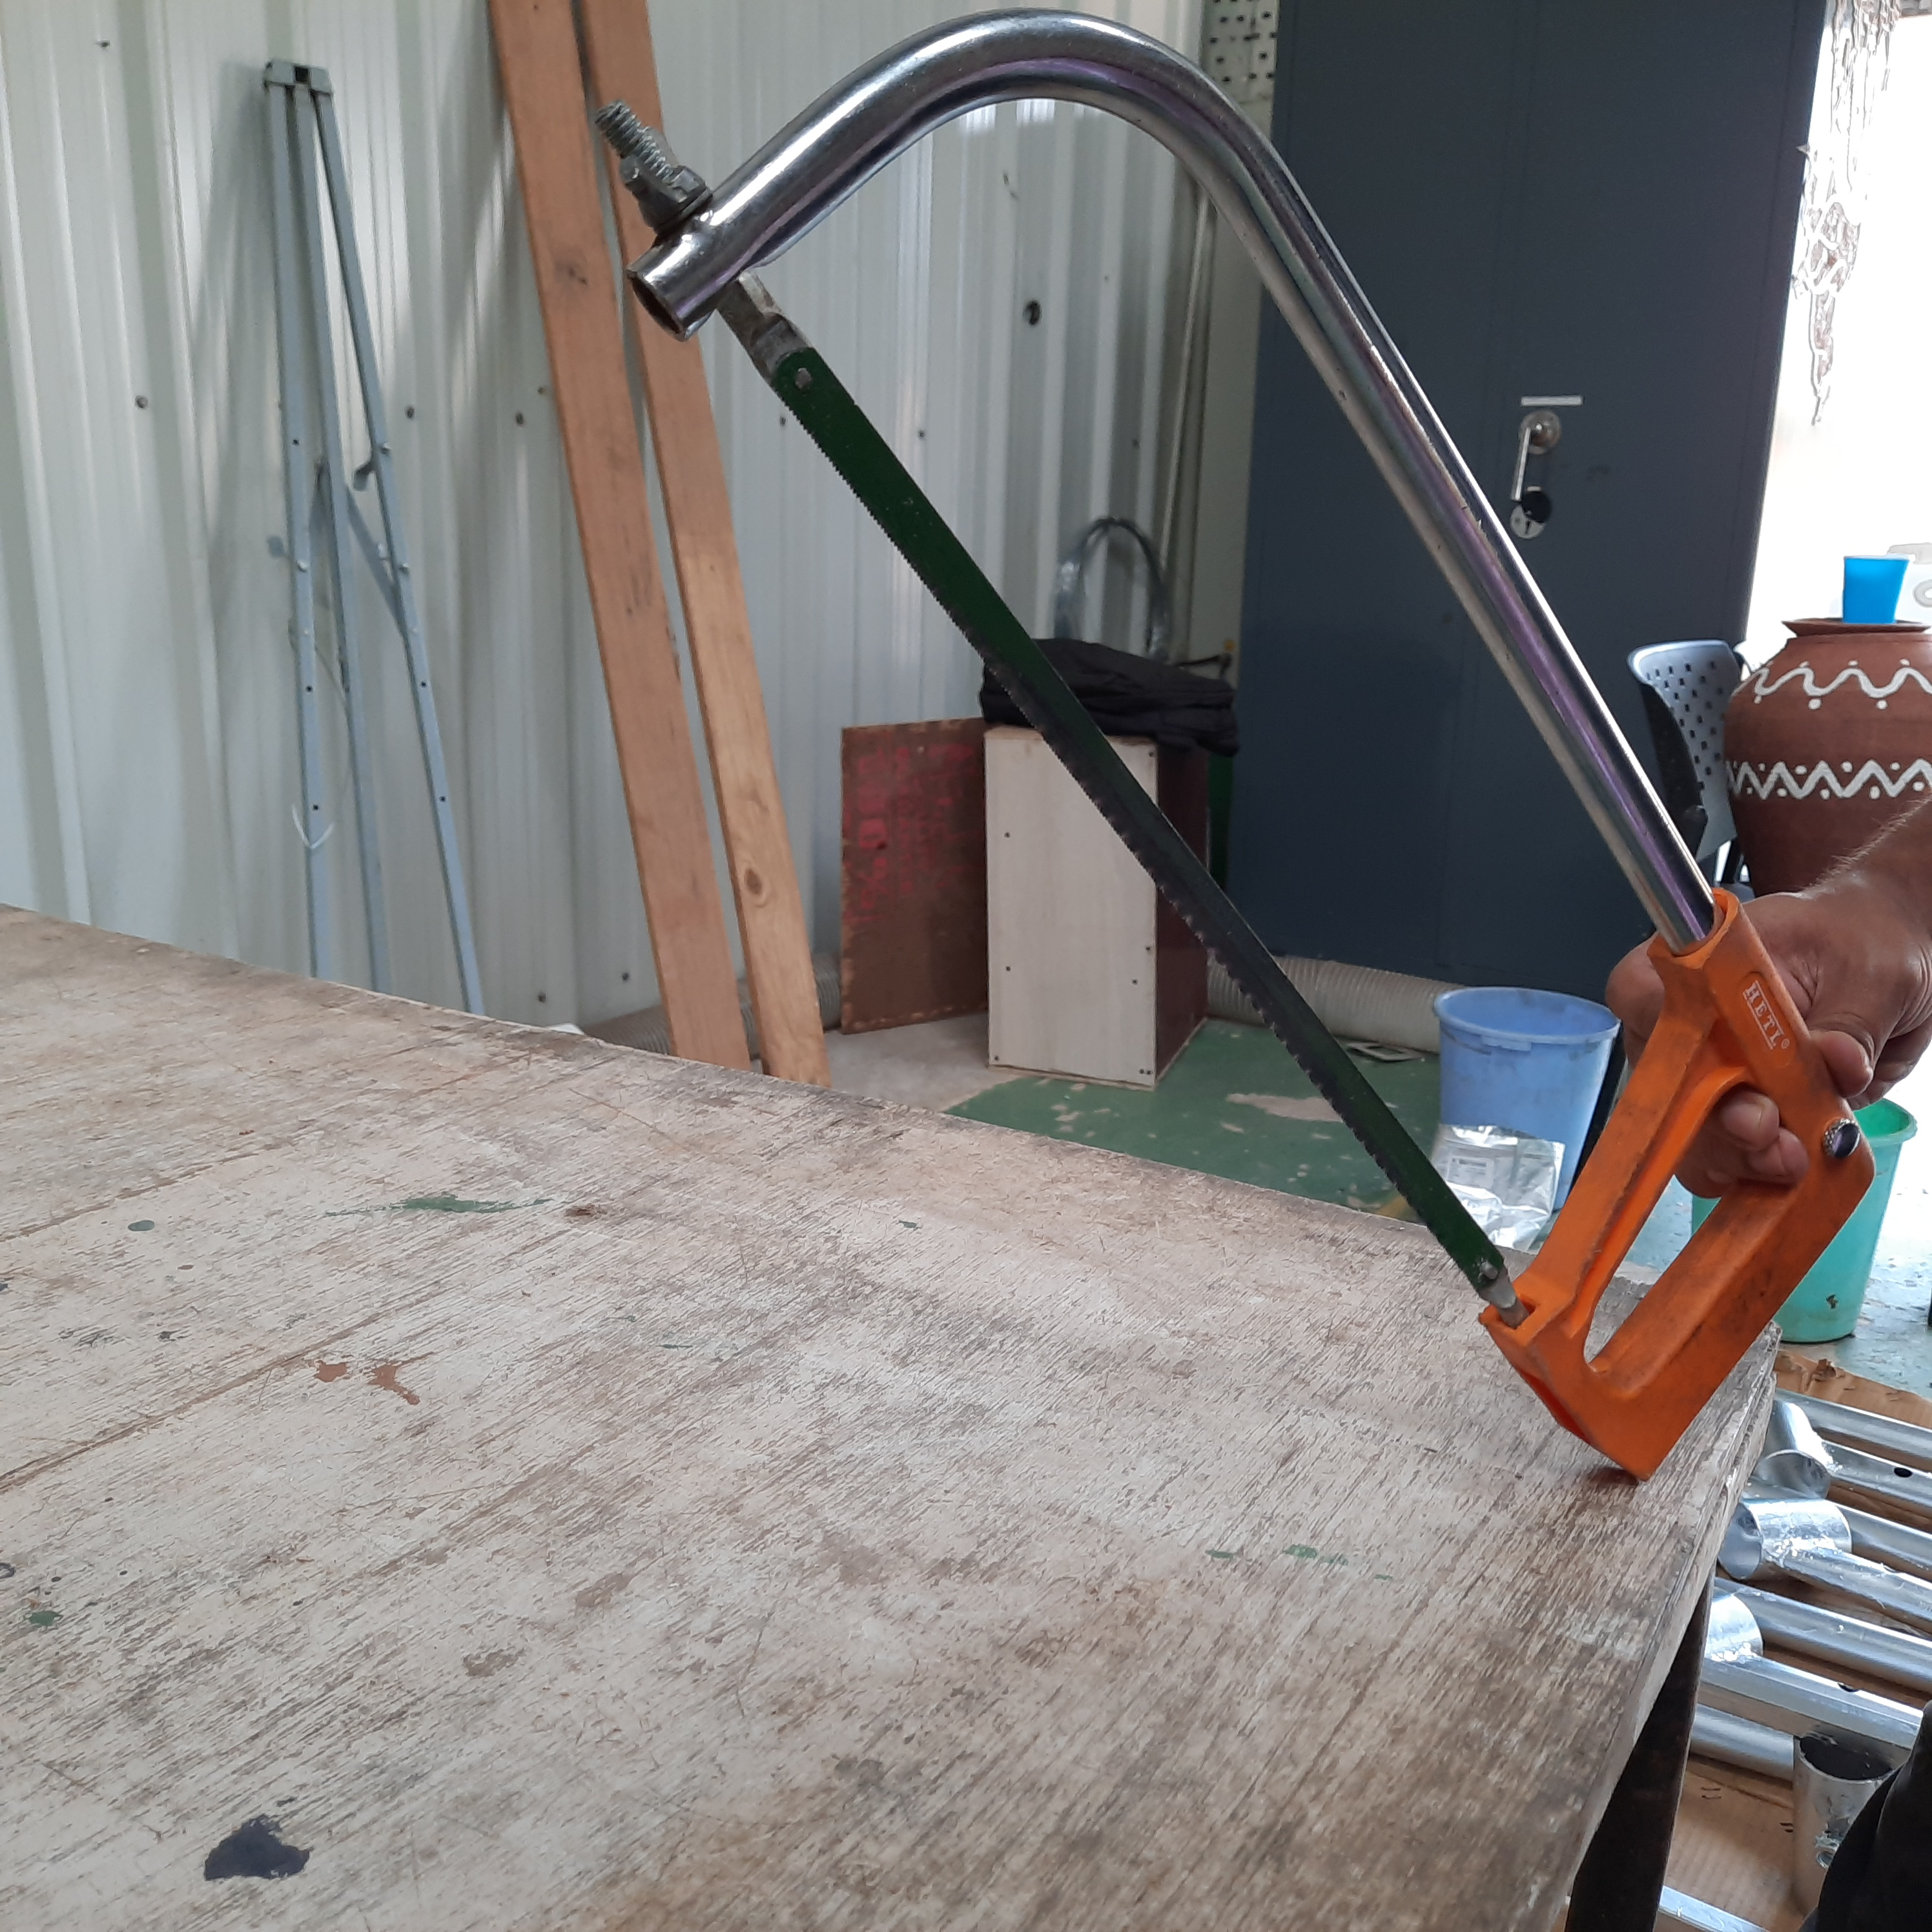Hexaframe: (580, 0, 1898, 1555)
